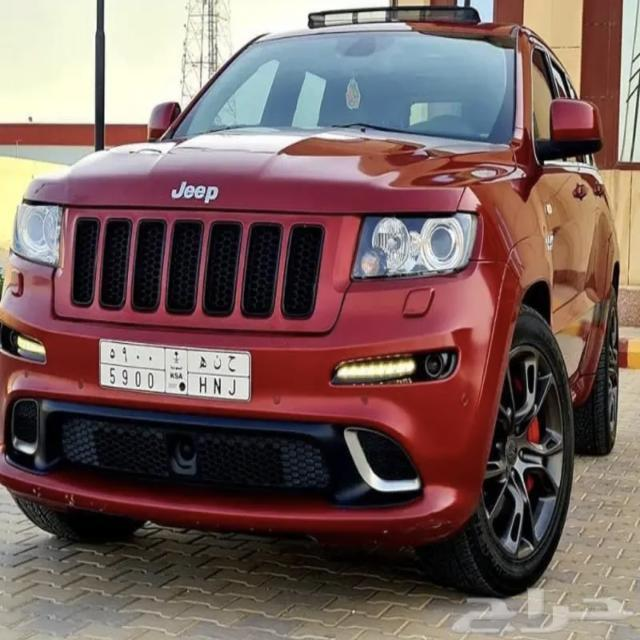license_plate: (97, 336, 250, 407)
